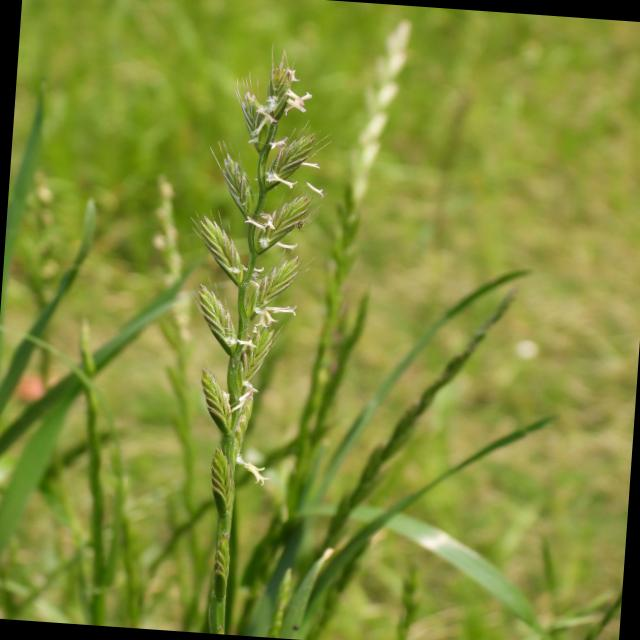Lolium: (158, 38, 340, 636)
